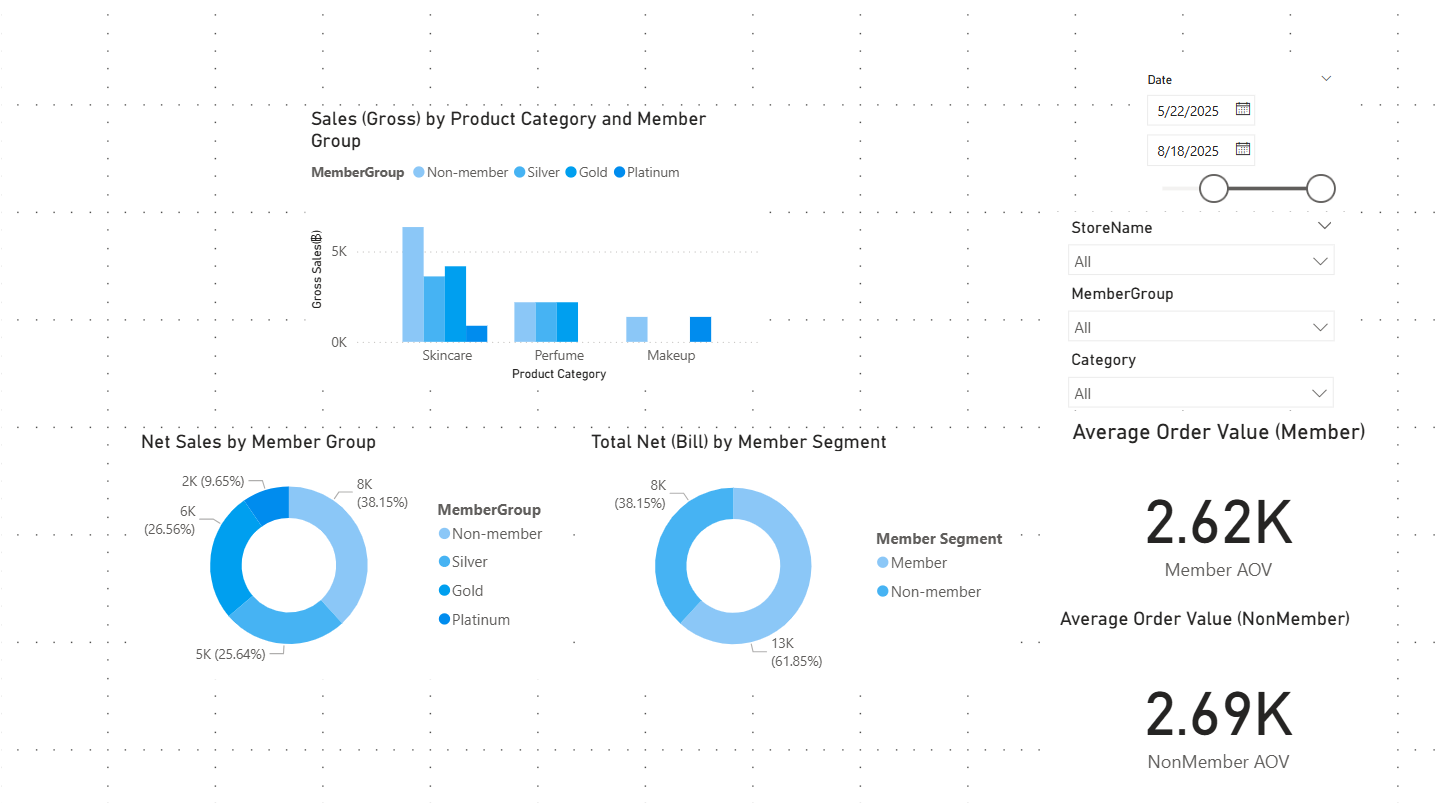

The page's visual inventory and layout, read from the dashboard file:
{"tool":"powerbi","page":{"name":"Page 2","canvas":[1280,720],"ordinal":1},"visuals":[{"type":"clusteredColumnChart","title":"Sales (Gross) by Product Category and Member Group","fields":{"Y":["0_Dashboard.Line Gross"],"Category":["DimProduct.Category"],"Series":["DimCustomer.MemberGroup"]},"box":[272.8,97.3,410,248.8],"z":0},{"type":"donutChart","title":"Net Sales by Member Group","fields":{"Category":["DimCustomer.MemberGroup"],"Y":["0_Dashboard.Total Net (Bill)"]},"box":[121.5,384.8,382.5,222.5],"z":1000},{"type":"card","title":"Average Order Value (Member)","fields":{"Values":["0_Dashboard.Member AOV"]},"box":[937.5,375,292.5,167.5],"z":2000},{"type":"card","title":"Average Order Value (NonMember)","fields":{"Values":["0_Dashboard.NonMember AOV"]},"box":[937.5,542.5,292.5,177.5],"z":3000},{"type":"slicer","fields":{"Values":["DimDate.Date"]},"box":[1007.6,61.8,189.5,121.8],"z":4000},{"type":"slicer","fields":{"Values":["DimCustomer.MemberGroup"]},"box":[939.9,250.1,257.2,59.1],"z":5000},{"type":"slicer","fields":{"Values":["DimStore.StoreName"]},"box":[939.9,191,257.2,59.1],"z":6000},{"type":"slicer","fields":{"Values":["DimProduct.Category"]},"box":[940.3,308.8,256.2,58.8],"z":7000},{"type":"donutChart","fields":{"Category":["DimCustomer.Member Segment"],"Y":["0_Dashboard.Total Net (Bill)"]},"box":[521.5,384.8,382.5,223.8],"z":8000}]}

Visuals, with their boxes in screenshot pixels (x1, y1, x2, y2), scaled from the page's 1280x720 canvas onto the 1435x803 screenshot:
"Sales (Gross) by Product Category and Member Group" clusteredColumnChart: <region>306, 109, 765, 386</region>
"Net Sales by Member Group" donutChart: <region>136, 429, 565, 677</region>
"Average Order Value (Member)" card: <region>1051, 418, 1379, 605</region>
"Average Order Value (NonMember)" card: <region>1051, 605, 1379, 802</region>
slicer - DimDate.Date: <region>1130, 69, 1342, 205</region>
slicer - DimCustomer.MemberGroup: <region>1054, 279, 1342, 345</region>
slicer - DimStore.StoreName: <region>1054, 213, 1342, 279</region>
slicer - DimProduct.Category: <region>1054, 344, 1341, 410</region>
donutChart - DimCustomer.Member Segment x 0_Dashboard.Total Net (Bill): <region>585, 429, 1013, 679</region>
